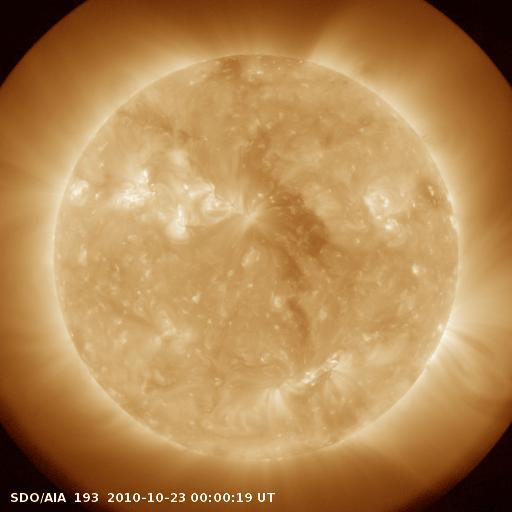coronal_hole: (246, 165, 332, 304)
